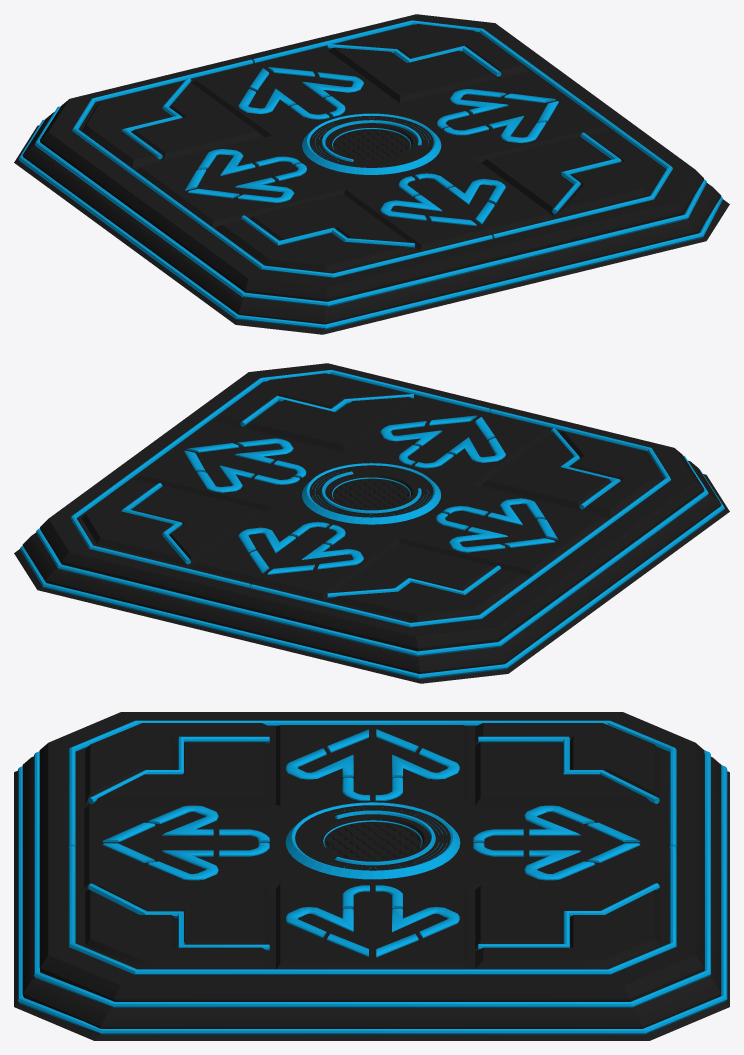
The model's file is ditai.FBX.
3 views of the same model, one above another, from view 1: azimuth 30°, elevation 25°; view 2: azimuth 150°, elevation 25°; view 3: azimuth 270°, elevation 25° (orthographic). The views are drawn at different scales.
Parts seen in each view (by area): view 1: Box650, Object032, Object031, Line020, Cylinder175, Object029, Plane083, Plane081, Plane080, Plane082, Cylinder182; view 2: Box650, Object032, Object031, Line020, Cylinder175, Object029, Plane083, Plane081, Plane080, Plane082, Cylinder182; view 3: Box650, Object032, Object031, Line020, Cylinder175, Object029, Plane082, Plane080, Plane083, Plane081, Cylinder182.
Boxes of the visible parts, left/top/right/bottom form: Box650: left=14, top=14, right=729, bottom=334; Object032: left=136, top=49, right=608, bottom=250; Object031: left=82, top=24, right=661, bottom=272; Line020: left=19, top=20, right=722, bottom=329; Cylinder175: left=309, top=115, right=433, bottom=167; Object029: left=302, top=113, right=441, bottom=174; Plane083: left=437, top=89, right=558, bottom=143; Plane081: left=185, top=149, right=306, bottom=202; Plane080: left=238, top=67, right=363, bottom=119; Plane082: left=380, top=173, right=505, bottom=226; Cylinder182: left=333, top=129, right=410, bottom=159; Box650: left=14, top=363, right=729, bottom=683; Object032: left=135, top=398, right=607, bottom=599; Object031: left=82, top=373, right=661, bottom=621; Line020: left=20, top=370, right=724, bottom=679; Cylinder175: left=309, top=465, right=433, bottom=517; Object029: left=302, top=463, right=440, bottom=524; Plane083: left=184, top=438, right=306, bottom=492; Plane081: left=436, top=498, right=558, bottom=552; Plane080: left=238, top=522, right=363, bottom=574; Plane082: left=380, top=415, right=505, bottom=468; Cylinder182: left=333, top=478, right=410, bottom=509; Box650: left=14, top=712, right=729, bottom=1040; Object032: left=84, top=725, right=659, bottom=969; Object031: left=85, top=723, right=659, bottom=968; Line020: left=18, top=720, right=727, bottom=1034; Cylinder175: left=295, top=805, right=450, bottom=879; Object029: left=285, top=802, right=460, bottom=879; Plane082: left=102, top=805, right=269, bottom=880; Plane080: left=473, top=805, right=640, bottom=880; Plane083: left=286, top=885, right=459, bottom=957; Plane081: left=286, top=729, right=459, bottom=800; Cylinder182: left=324, top=822, right=421, bottom=860.
Bounding box in the file's own units: 313 × 25.58 × 313.
